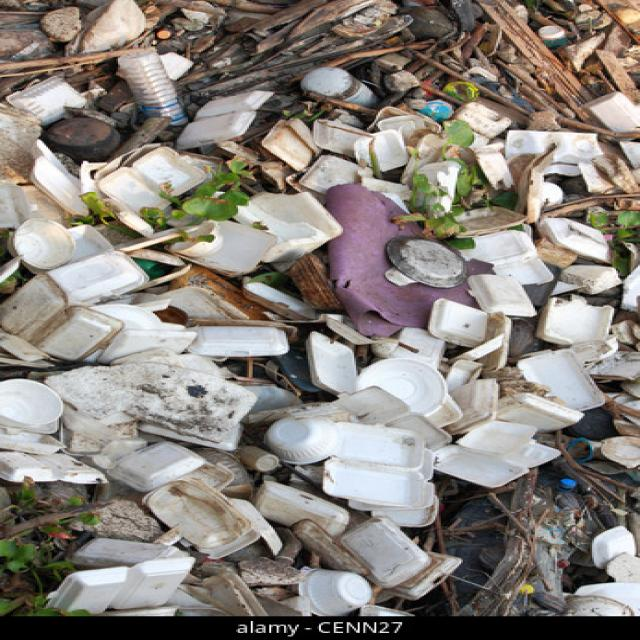cardboard: (17, 228, 340, 548), (408, 244, 629, 464), (302, 549, 442, 622)
plastic: (37, 139, 360, 494), (116, 54, 184, 118)
trash: (247, 13, 603, 116)
